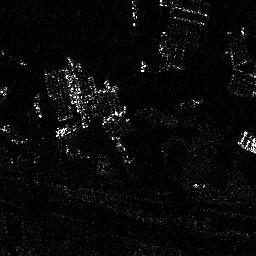ship: (110, 136, 133, 164)
